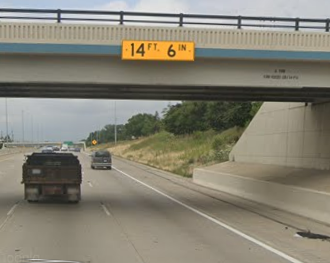1: (127, 41, 137, 57)
4: (135, 41, 147, 58)
6: (165, 42, 177, 58)
overheadsign: (121, 40, 196, 62)
